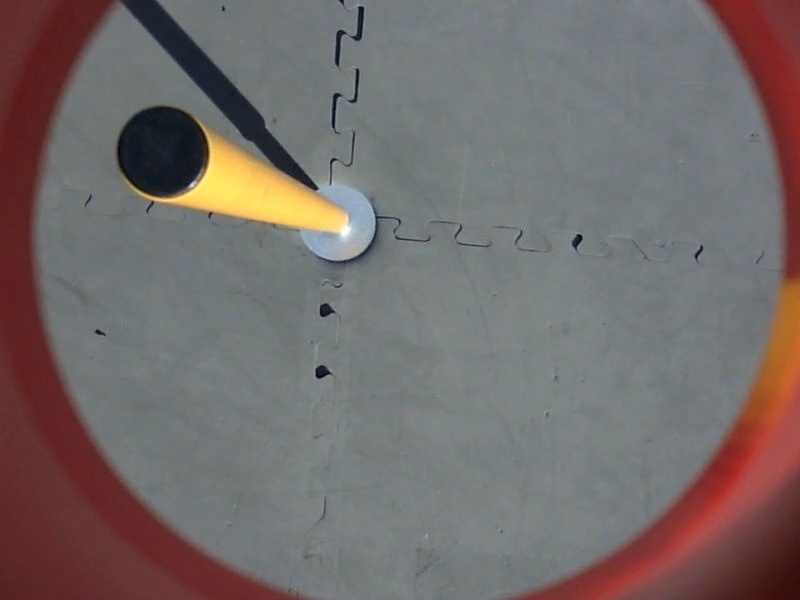tip: (112, 105, 217, 207)
